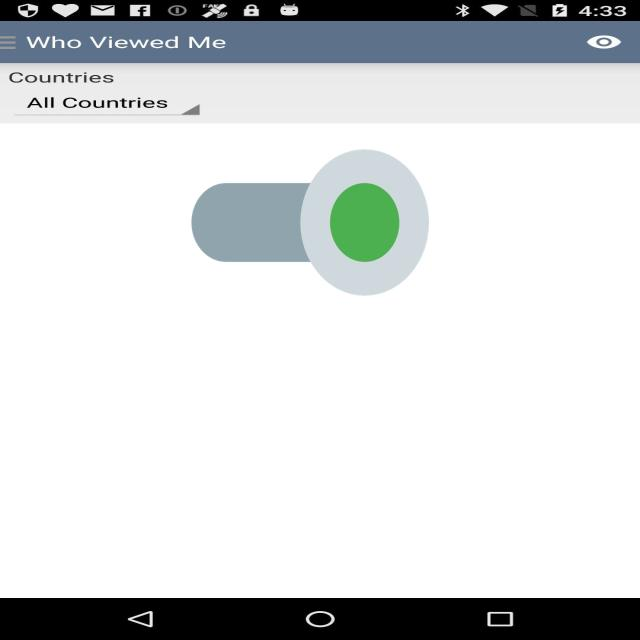social proof: (191, 87, 429, 358)
